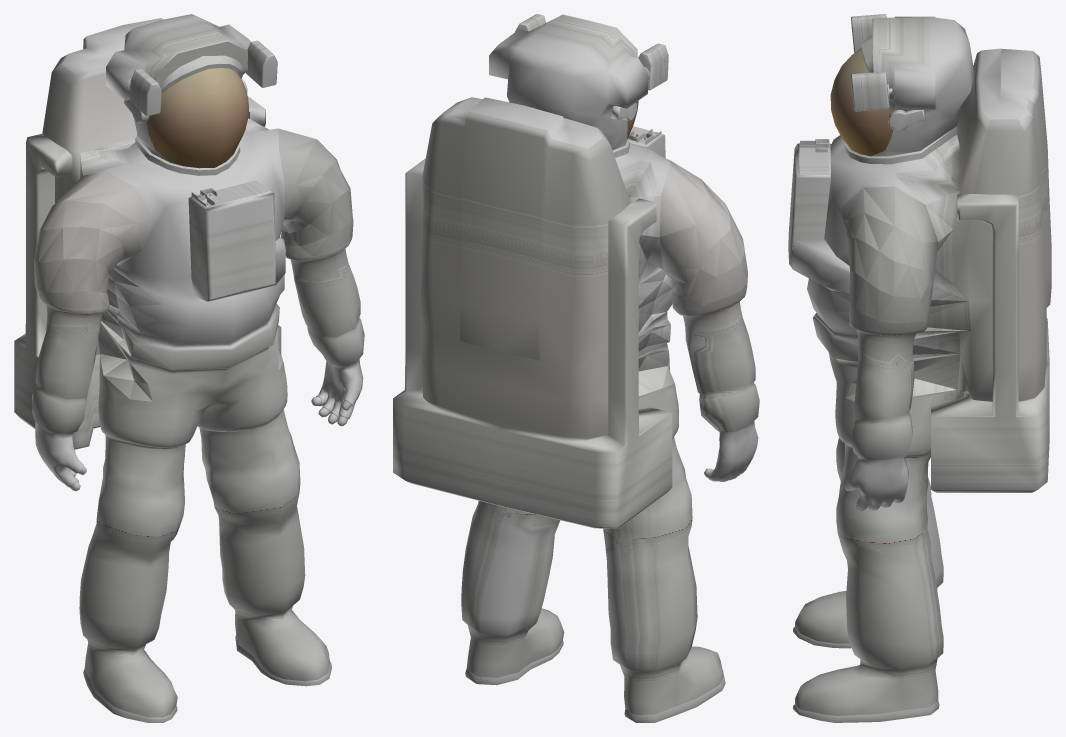
Rendered from astronaut.glb.
3 views of the same model, side by side, from view 1: azimuth 30°, elevation 25°; view 2: azimuth 150°, elevation 25°; view 3: azimuth 270°, elevation 25° (orthographic). The views are drawn at different scales.
Parts seen in each view (by area): view 1: astronaut1; view 2: astronaut1; view 3: astronaut1.
Boxes of the visible parts, x1=… form: astronaut1: x1=14, y1=14, x2=364, y2=722; astronaut1: x1=393, y1=14, x2=759, y2=722; astronaut1: x1=788, y1=14, x2=1051, y2=722.
Size of the model in its own units: 0.9954 by 1.85 by 0.6876.
2 materials, 2 textured.
